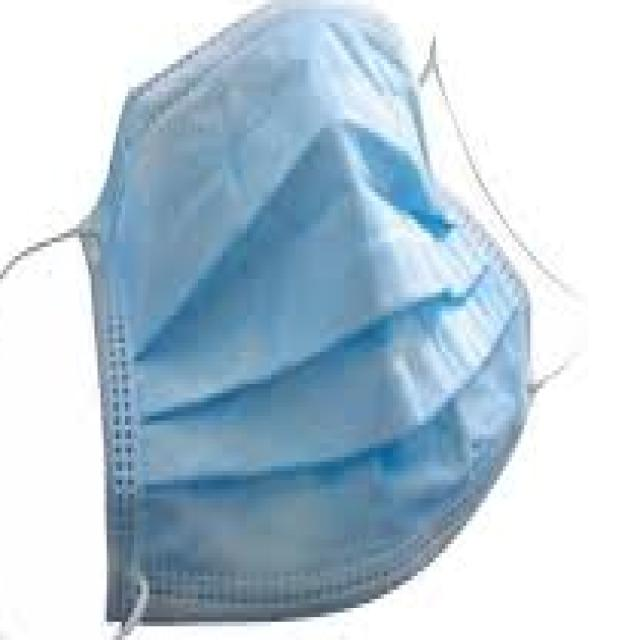organic: (41, 15, 559, 597)
